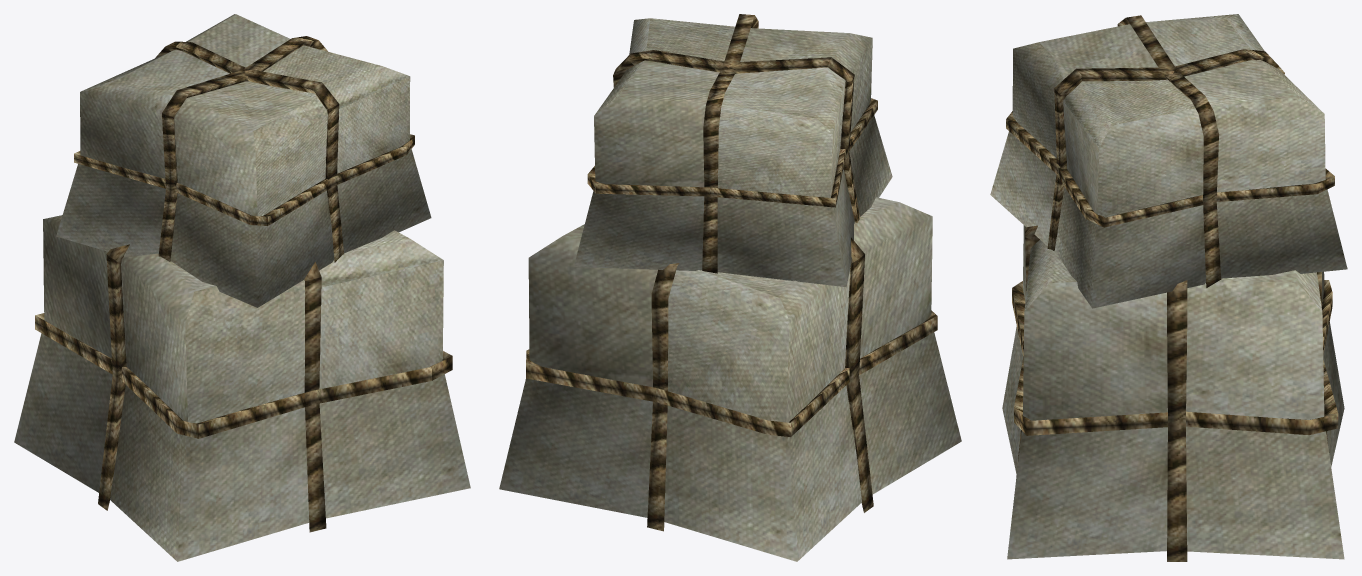
Rendered from package01.fbx.
3 renders of one model, left to right at view 1: azimuth 30°, elevation 25°; view 2: azimuth 150°, elevation 25°; view 3: azimuth 270°, elevation 25°, orthographic. The views are drawn at different scales.
Parts seen in each view (by area): view 1: package01; view 2: package01; view 3: package01.
Boxes of the visible parts, <box> form: package01: <box>14,14,470,561</box>; package01: <box>499,14,961,561</box>; package01: <box>990,14,1347,561</box>.
Size of the model in its own units: 0.77 by 1.02 by 0.757.
